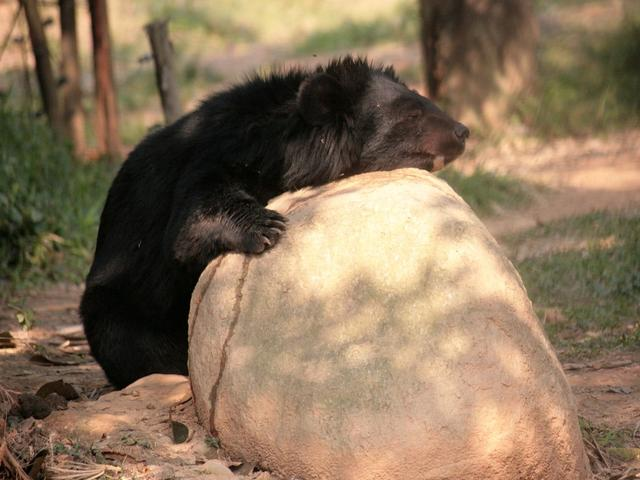Bear: (65, 54, 499, 375)
